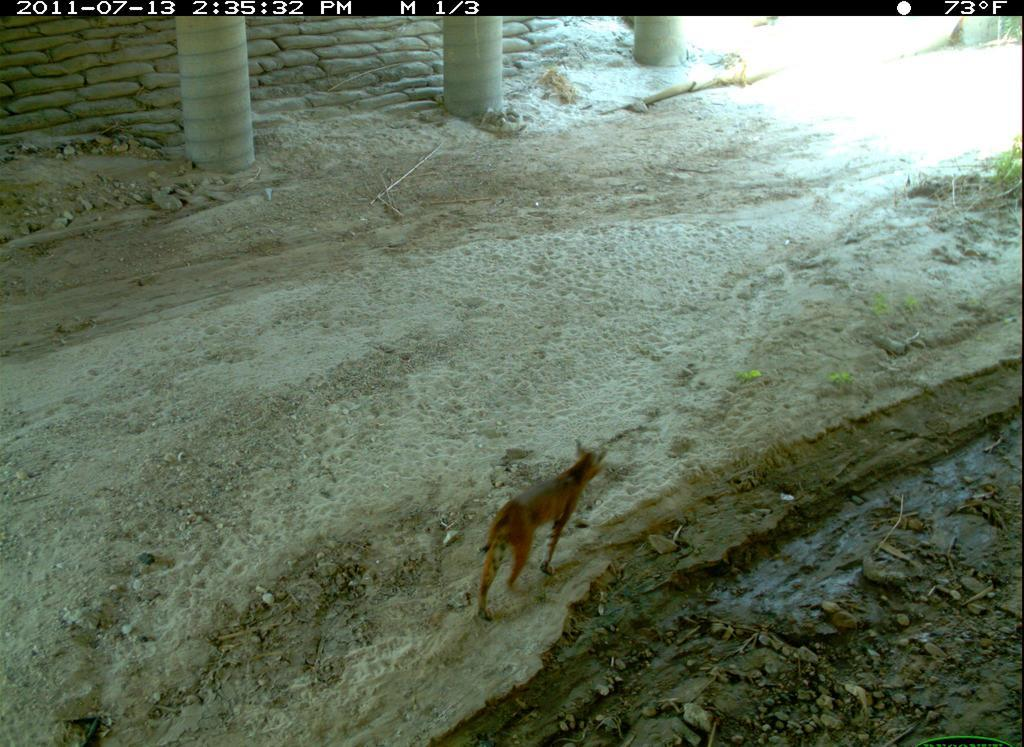bobcat: (457, 434, 619, 626)
